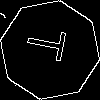T: (25, 25, 75, 64)
